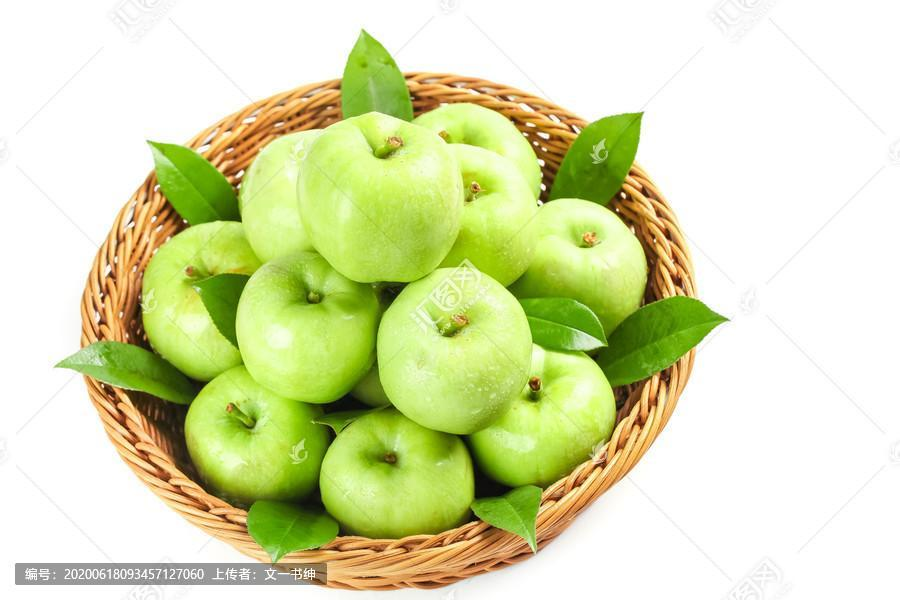apple: (298, 112, 466, 288), (376, 262, 530, 440), (235, 255, 380, 407), (468, 347, 616, 495), (319, 413, 475, 541), (508, 198, 648, 335), (182, 373, 328, 504), (143, 220, 251, 379), (422, 142, 535, 291)
